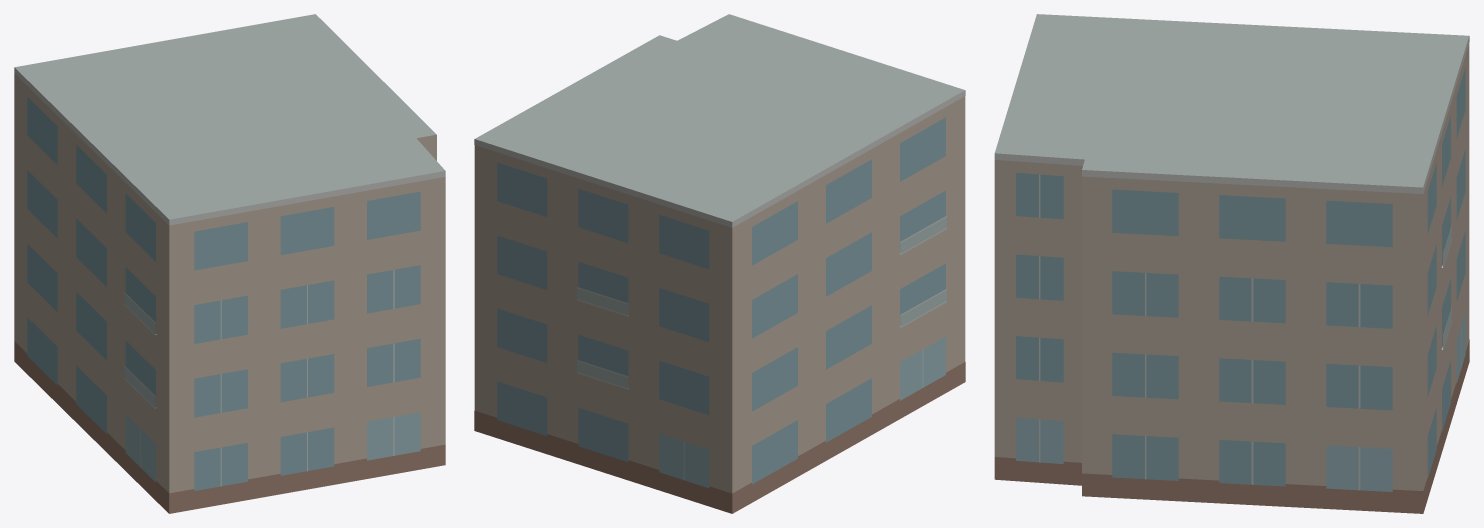
The model's file is survey-upis-32646803.glb.
3 views of the same model, side by side, from view 1: azimuth 30°, elevation 25°; view 2: azimuth 150°, elevation 25°; view 3: azimuth 270°, elevation 25° (orthographic). The views are drawn at different scales.
Parts seen in each view (by area): view 1: survey-upis-32646803.tmp; view 2: survey-upis-32646803.tmp; view 3: survey-upis-32646803.tmp.
Boxes of the visible parts, bbox=[...] form: survey-upis-32646803.tmp: bbox=[14, 14, 445, 513]; survey-upis-32646803.tmp: bbox=[474, 14, 965, 513]; survey-upis-32646803.tmp: bbox=[994, 14, 1469, 513].
Size of the model in its own units: 13.92 by 12.2 by 16.1.
